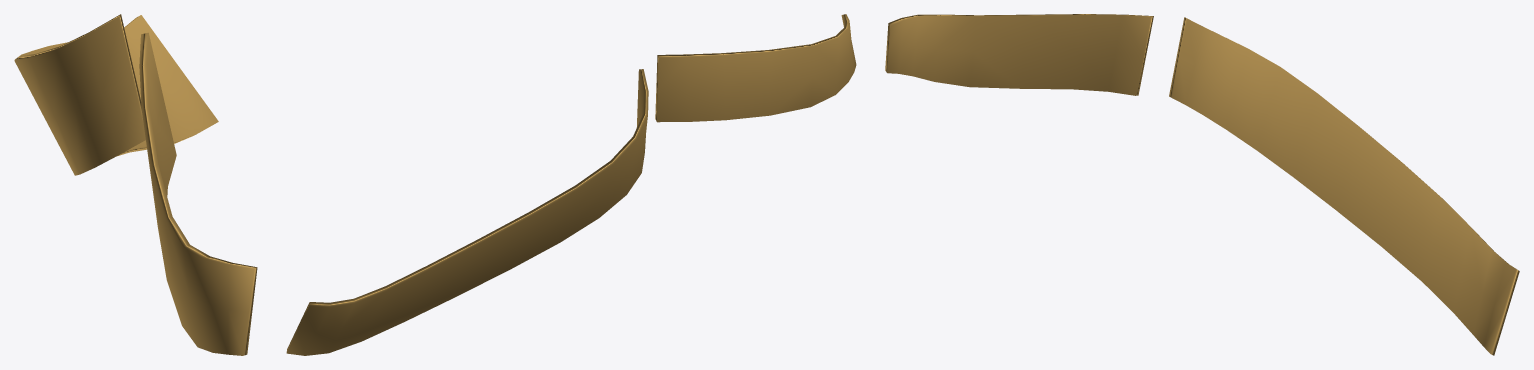
The picture shows the model from 3 angles, left to right: view 1: azimuth 30°, elevation 25°; view 2: azimuth 150°, elevation 25°; view 3: azimuth 270°, elevation 25°; orthographic projection. The views are drawn at different scales.
Parts seen in each view (by area): view 1: 左侧胫侧副韧带深部; view 2: 左侧胫侧副韧带深部; view 3: 左侧胫侧副韧带深部.
Boxes of the visible parts, bbox=[...] form: 左侧胫侧副韧带深部: bbox=[14, 14, 257, 355]; 左侧胫侧副韧带深部: bbox=[286, 14, 856, 355]; 左侧胫侧副韧带深部: bbox=[885, 14, 1519, 355].
Bounding box in the file's own units: 0.0501 × 0.0381 × 0.0925.
